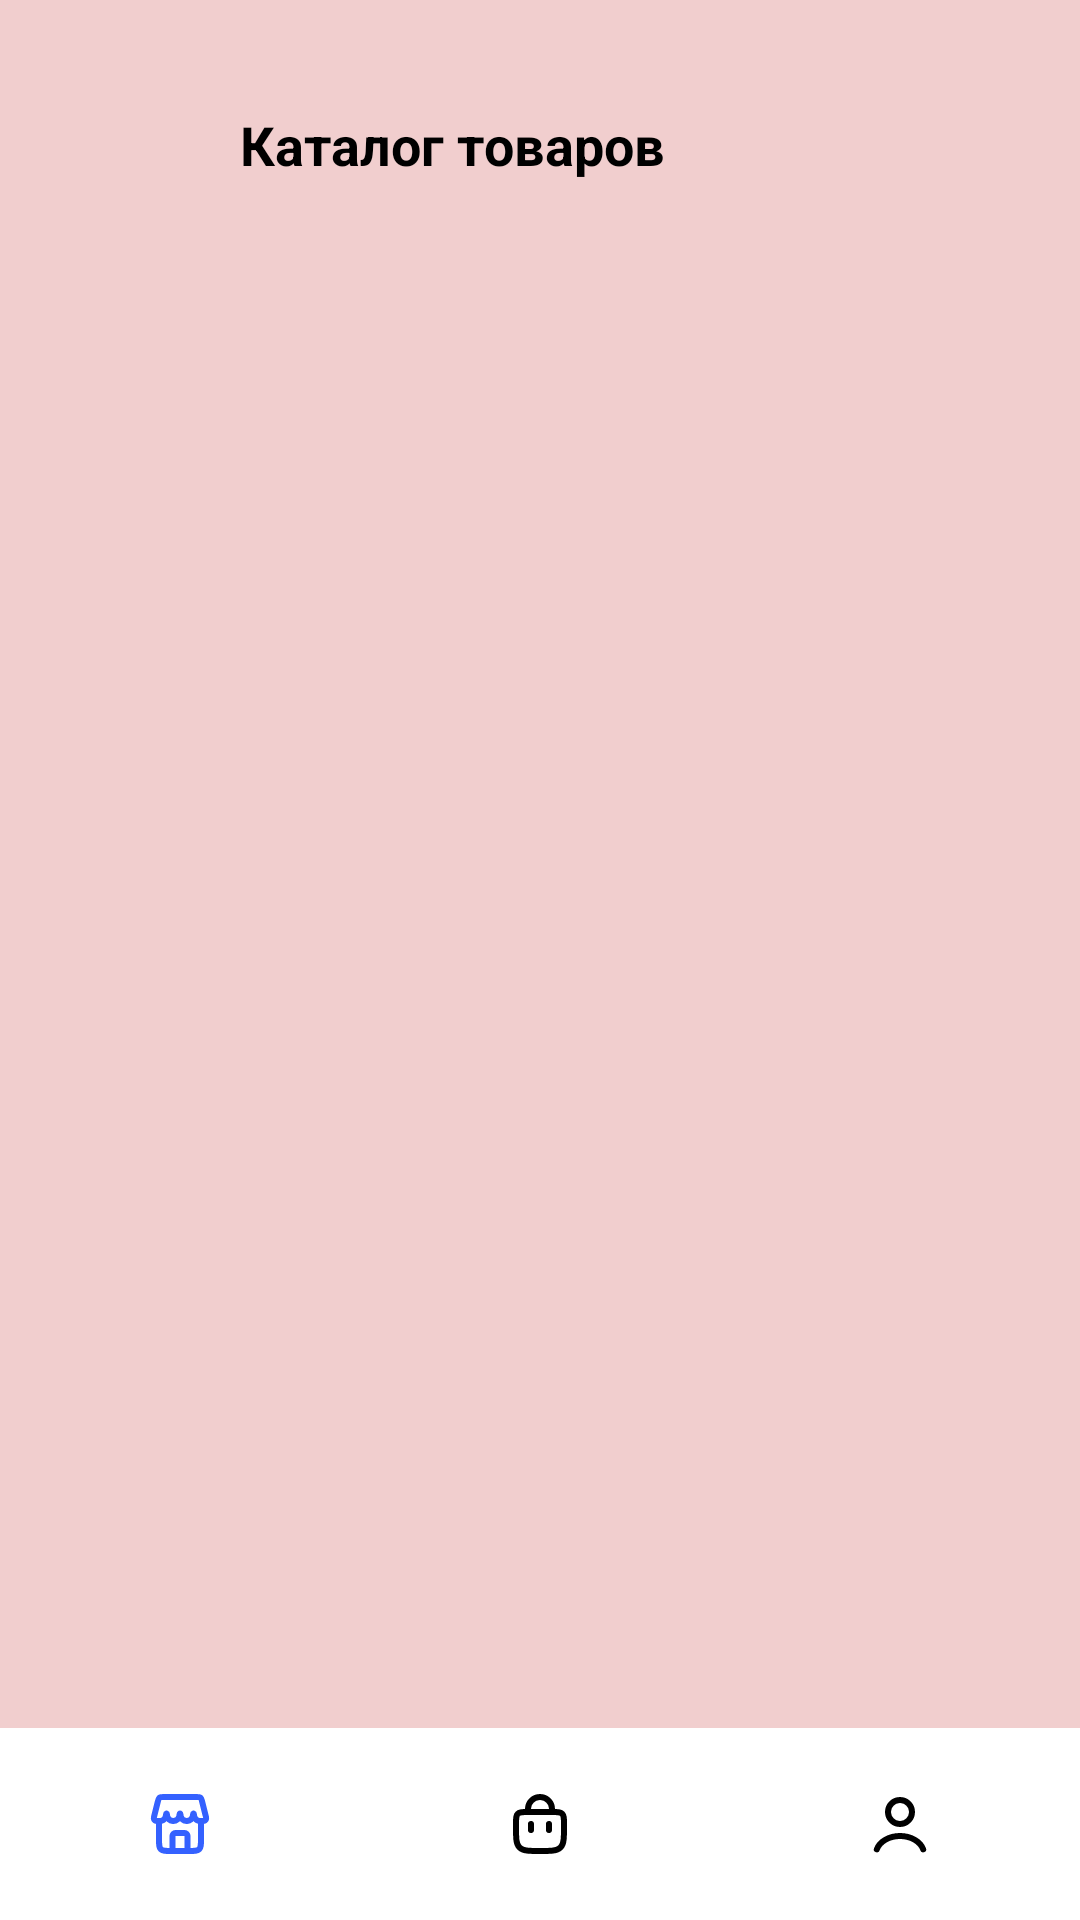

Icons on this 1080x1920 Android screen, each with its box as (x1, y1, x2, y2):
bag: (513, 1794, 567, 1854)
shop: (150, 1794, 209, 1854)
user: (873, 1797, 927, 1853)
